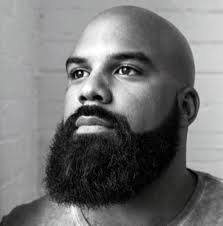black_male: (51, 1, 185, 194)
